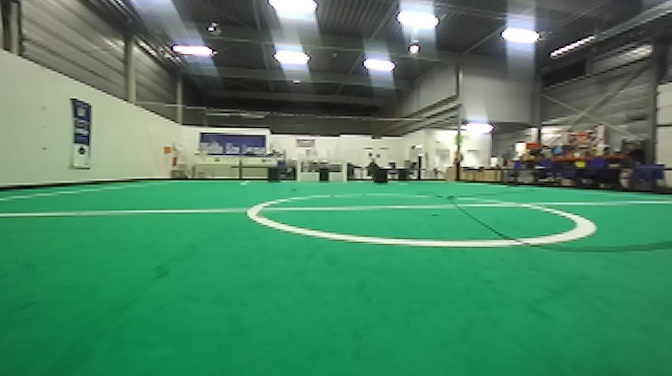goalpost: (295, 154, 303, 184), (339, 156, 345, 181)
